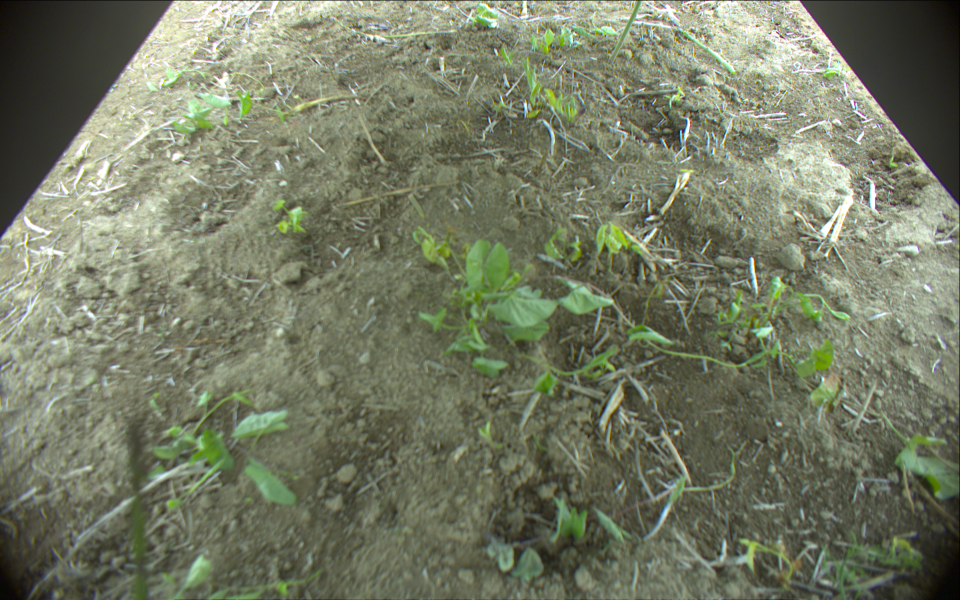aspa: (621, 16, 736, 72), (125, 421, 149, 600), (333, 18, 457, 37), (606, 1, 642, 63)
